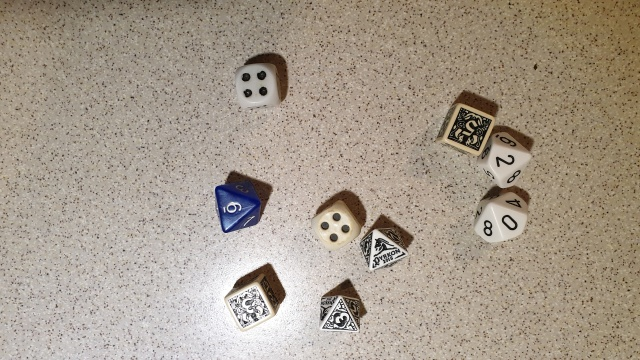d10-10: (470, 190, 536, 248)
d10-2: (478, 128, 532, 192)
d10-6: (204, 177, 272, 240)
d6-4: (308, 195, 360, 254), (233, 59, 287, 112)
d6p-3: (222, 273, 284, 334)
d6p-5: (434, 98, 492, 159)
d8p-1: (360, 225, 410, 273)
d8p-3: (316, 289, 365, 340)
